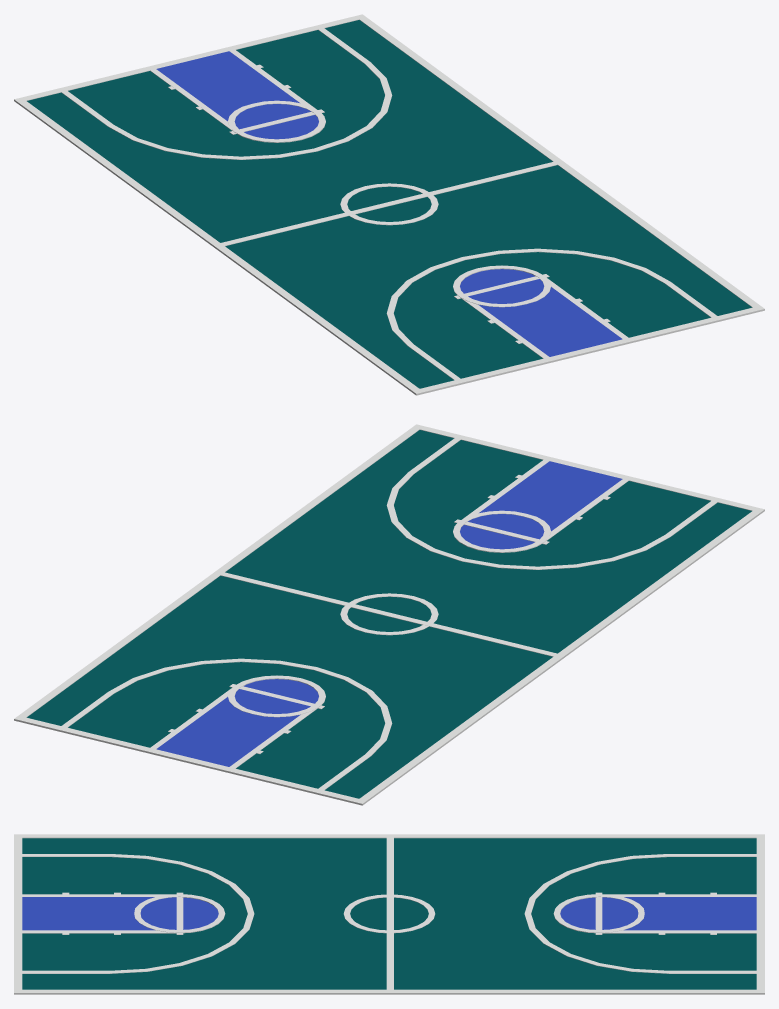
File: Basketball_Court_3.glb
3 renders of one model, top to bottom at view 1: azimuth 30°, elevation 25°; view 2: azimuth 150°, elevation 25°; view 3: azimuth 270°, elevation 25°, orthographic. The views are drawn at different scales.
Visible parts, largest first — view 1: Basketball_Court_3; view 2: Basketball_Court_3; view 3: Basketball_Court_3.
Boxes of the visible parts, x1,y1,x2,y2 form: Basketball_Court_3: (14, 14, 764, 395); Basketball_Court_3: (14, 424, 764, 805); Basketball_Court_3: (14, 834, 764, 994).
Size of the model in its own units: 8 by 0.0445 by 16.
1 material, 1 textured.
